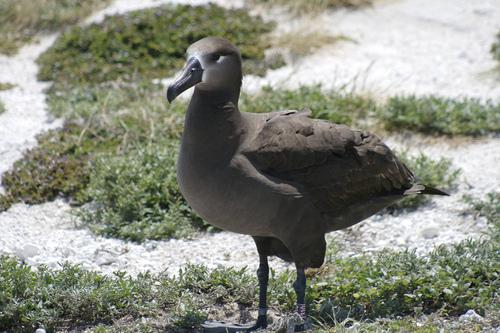003.Sooty_Albatross: (165, 37, 448, 331)
